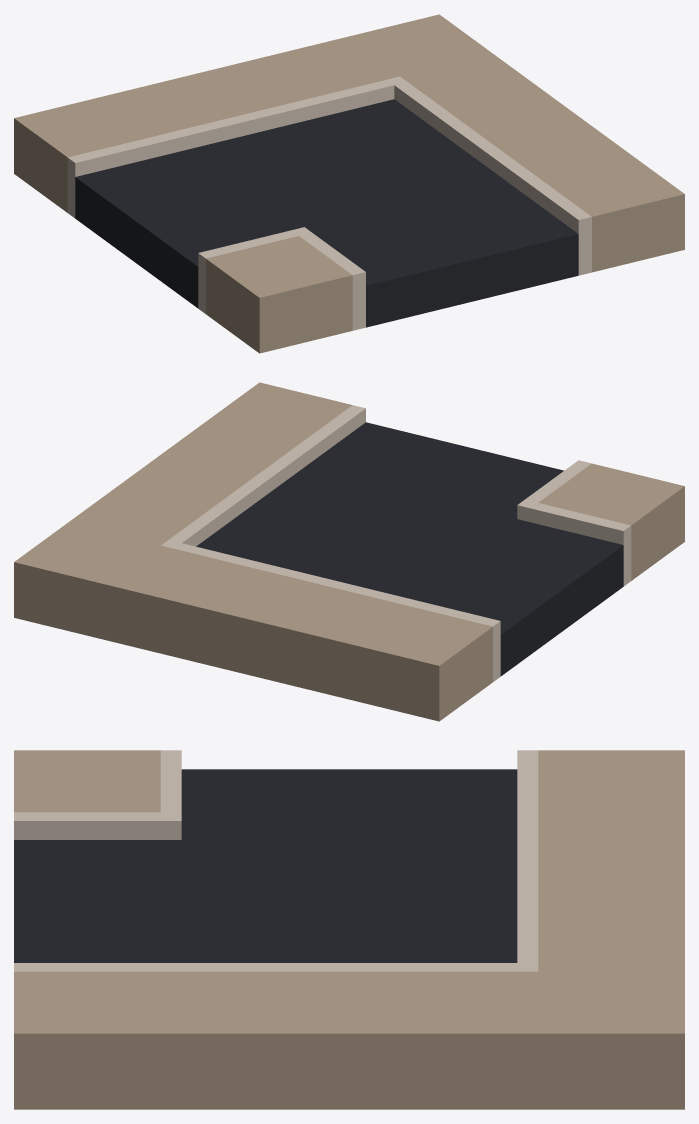
Rendered from road5.obj.
The picture shows the model from 3 angles, top to bottom: view 1: azimuth 30°, elevation 25°; view 2: azimuth 150°, elevation 25°; view 3: azimuth 270°, elevation 25°; orthographic projection. The views are drawn at different scales.
Bounding box in the file's own units: 3.2 × 0.4 × 3.2.
1 material, 1 textured.
